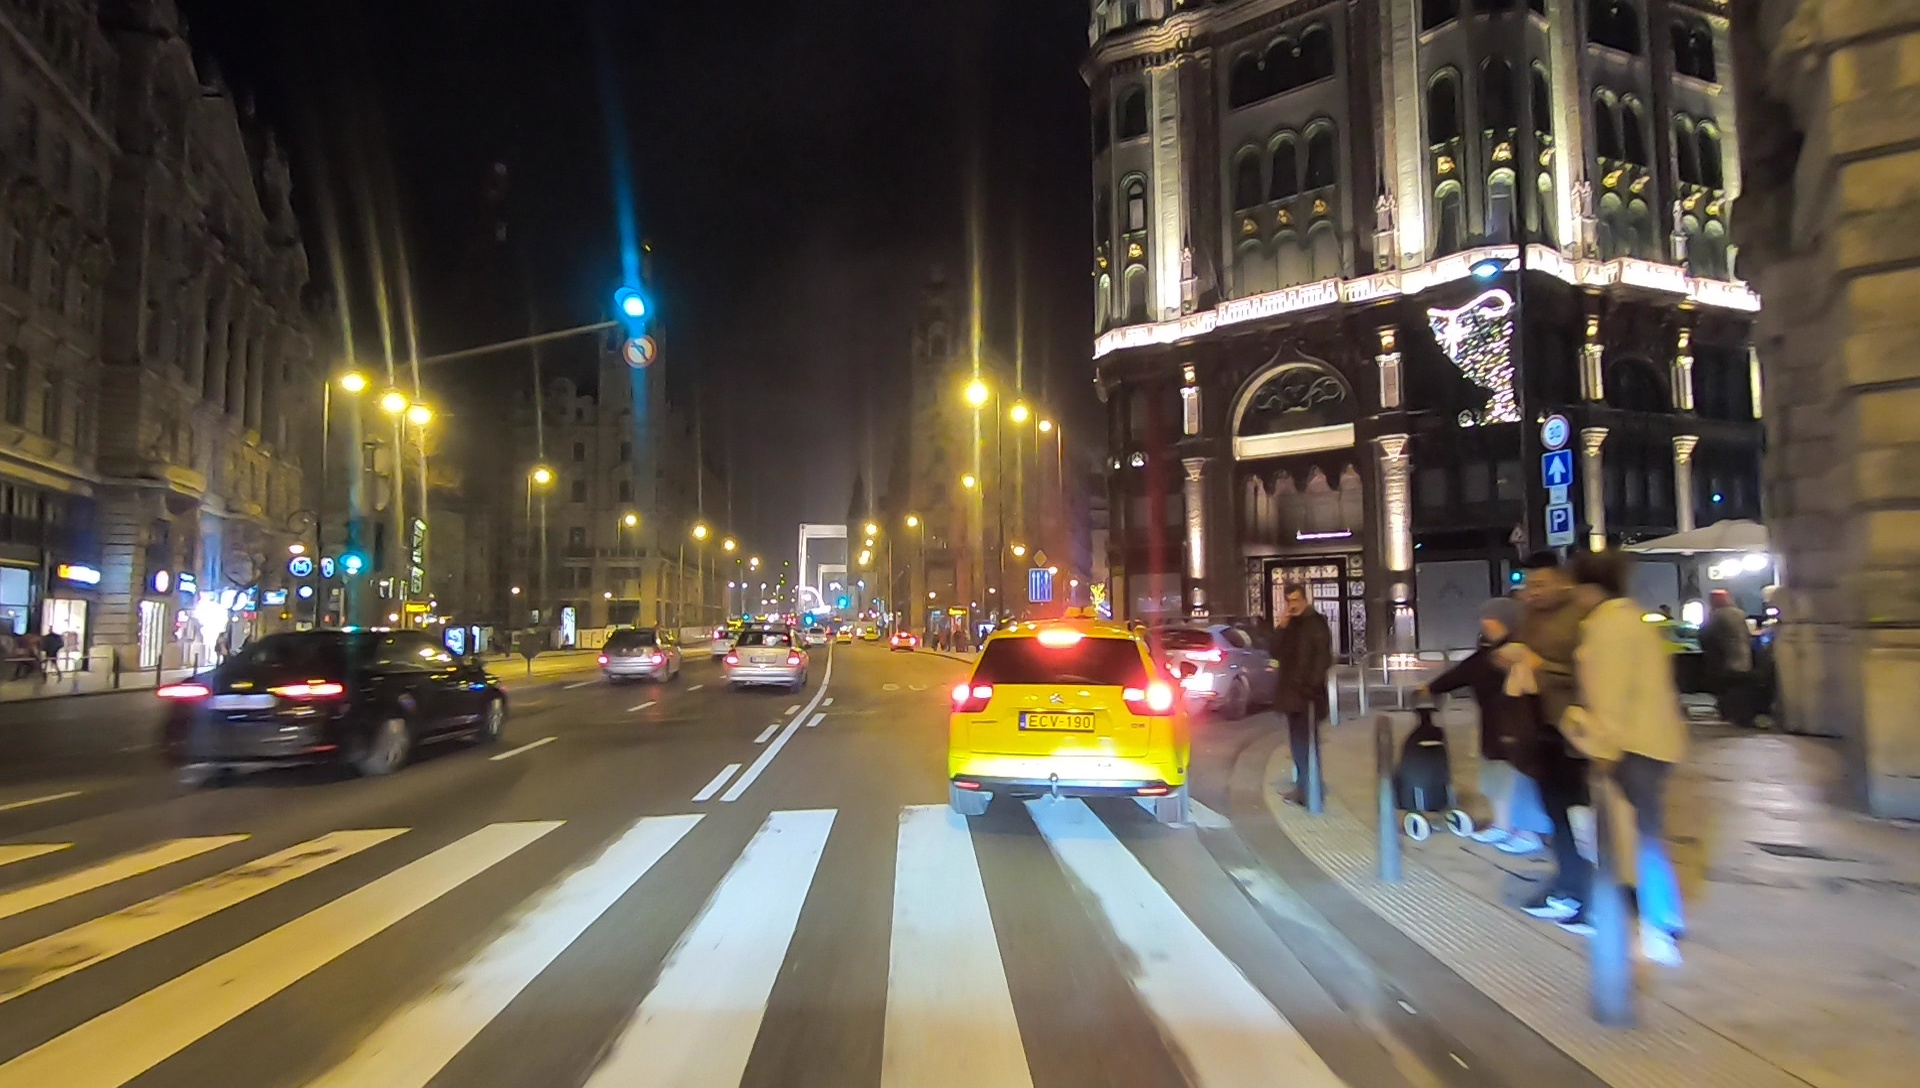person: (1562, 565, 1693, 971), (1508, 560, 1617, 936), (1452, 595, 1547, 860), (1269, 584, 1330, 810), (1699, 589, 1756, 739), (39, 626, 63, 685)
